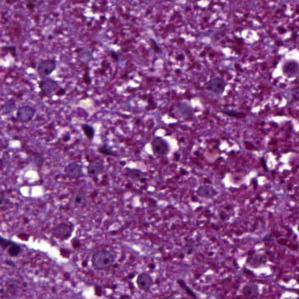inflammation: (32, 59, 65, 101), (142, 127, 178, 162), (272, 51, 299, 88), (89, 247, 119, 272)
